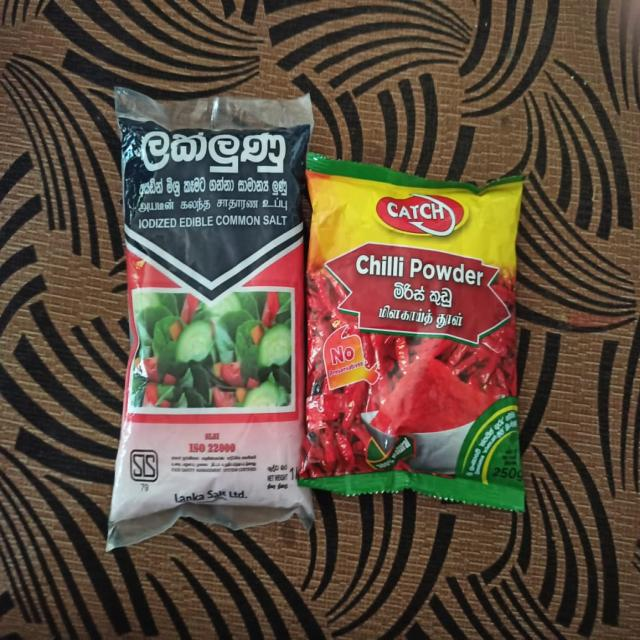Chilli Powder: (310, 145, 547, 546)
Lak Lunu: (121, 74, 305, 551)
